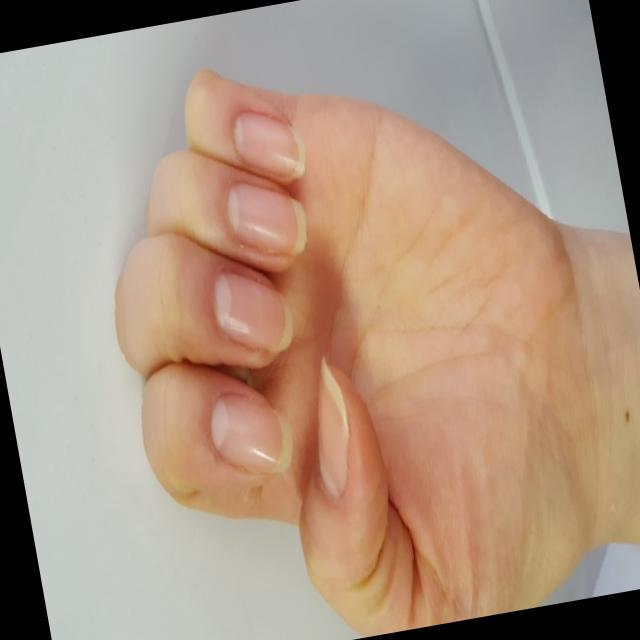Nail: (210, 392, 292, 472), (214, 270, 292, 350), (226, 181, 306, 253), (233, 110, 304, 178), (318, 356, 348, 498)
